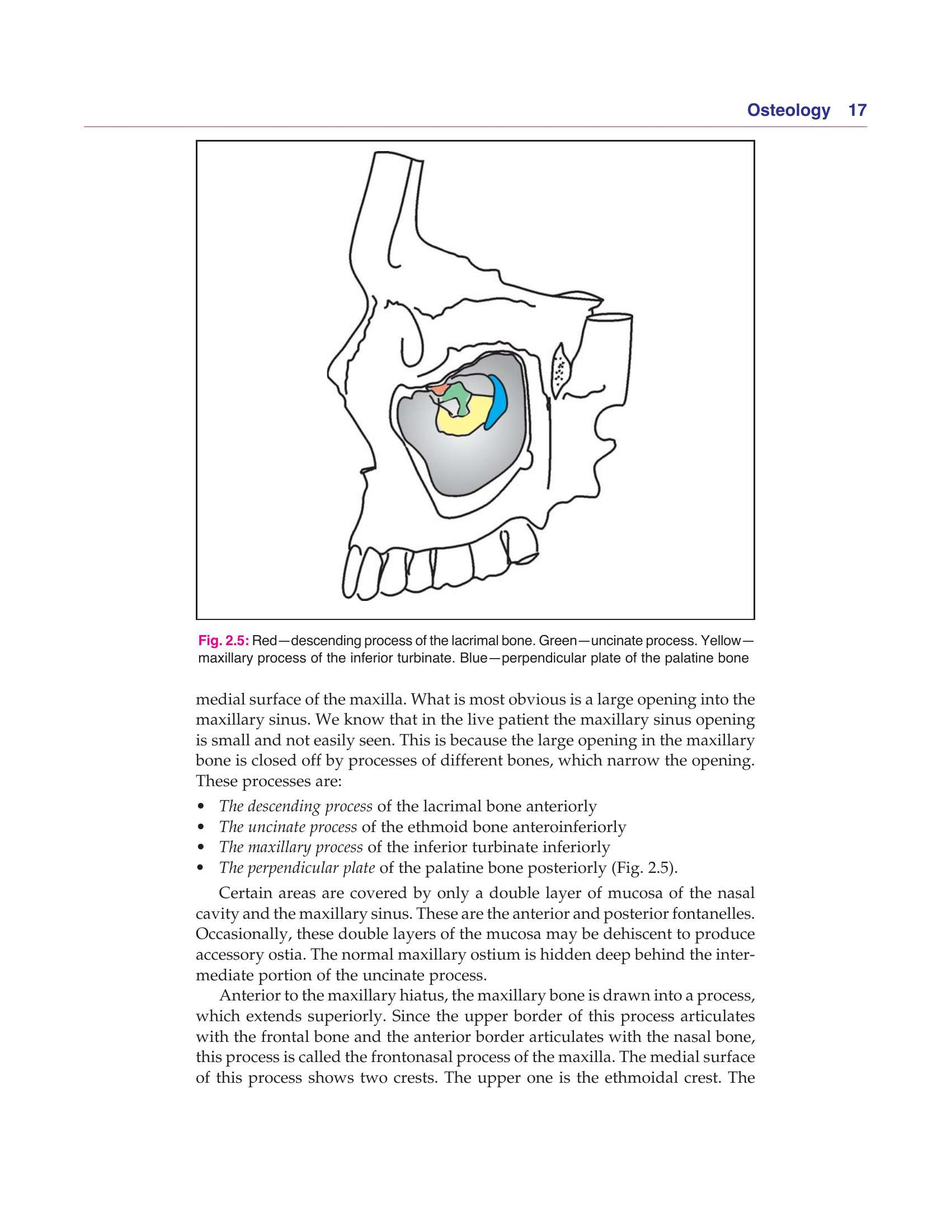caption: (197, 632, 755, 670)
header: (746, 100, 833, 122)
image: (194, 138, 757, 623)
list: (195, 797, 679, 880)
text: (194, 883, 755, 1089), (194, 689, 757, 792)
